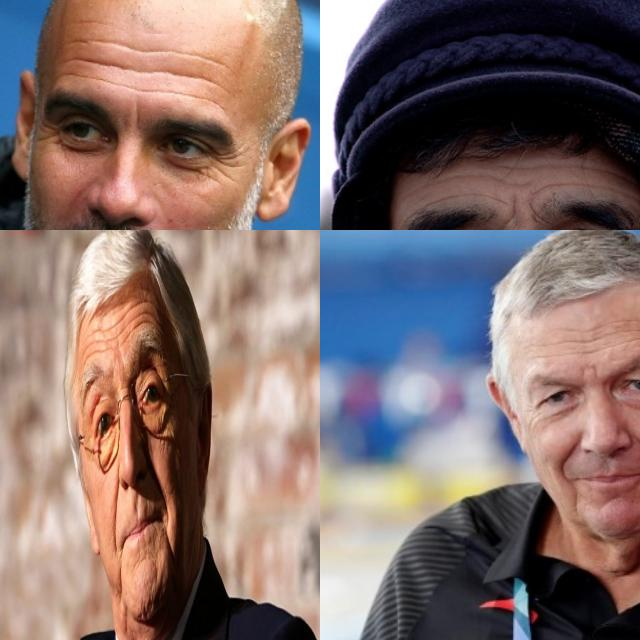chin: (134, 550, 156, 568), (567, 490, 585, 512)
crows_feet: (211, 145, 241, 187), (36, 122, 60, 150), (522, 402, 540, 426)
forehead: (153, 46, 227, 108), (64, 31, 134, 91), (574, 156, 630, 190), (496, 154, 564, 178), (425, 182, 483, 205), (566, 324, 604, 358), (555, 174, 609, 196), (117, 302, 155, 329), (84, 332, 114, 359), (528, 334, 562, 350), (620, 317, 640, 339)
frown_line: (505, 189, 539, 230), (578, 360, 600, 380), (128, 104, 144, 130)
gummy_smile: (554, 444, 580, 476), (112, 476, 120, 546)
sad_smile: (165, 528, 177, 567), (118, 555, 125, 595)
